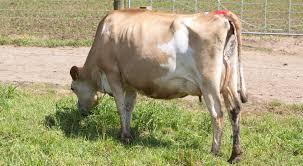cow: (71, 10, 241, 165)
